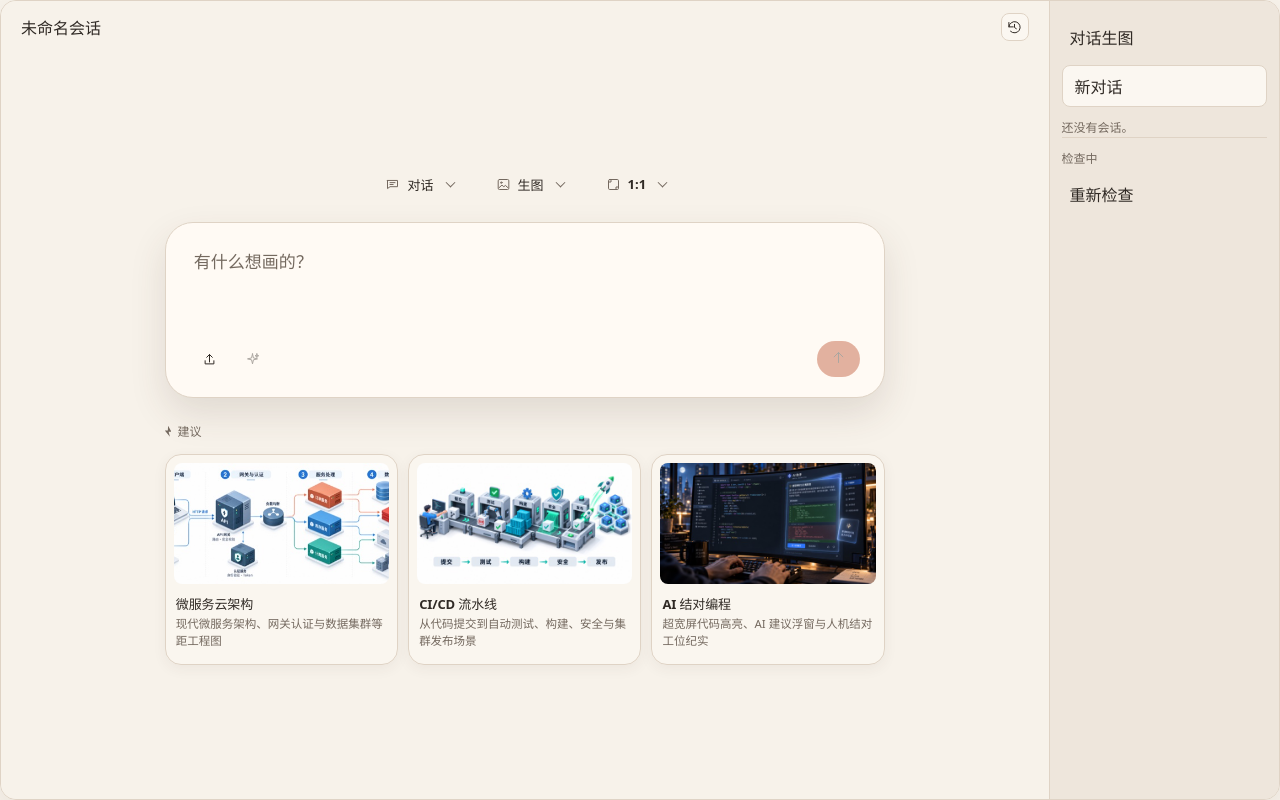
Test: ImagesPage › shows the user turn while send is still running
The width and height of the screenshot is (1280, 800).
Click the button with aria-label "新建会话" at (1164, 86), box top-left (1062, 65), bottom-right (1267, 107)
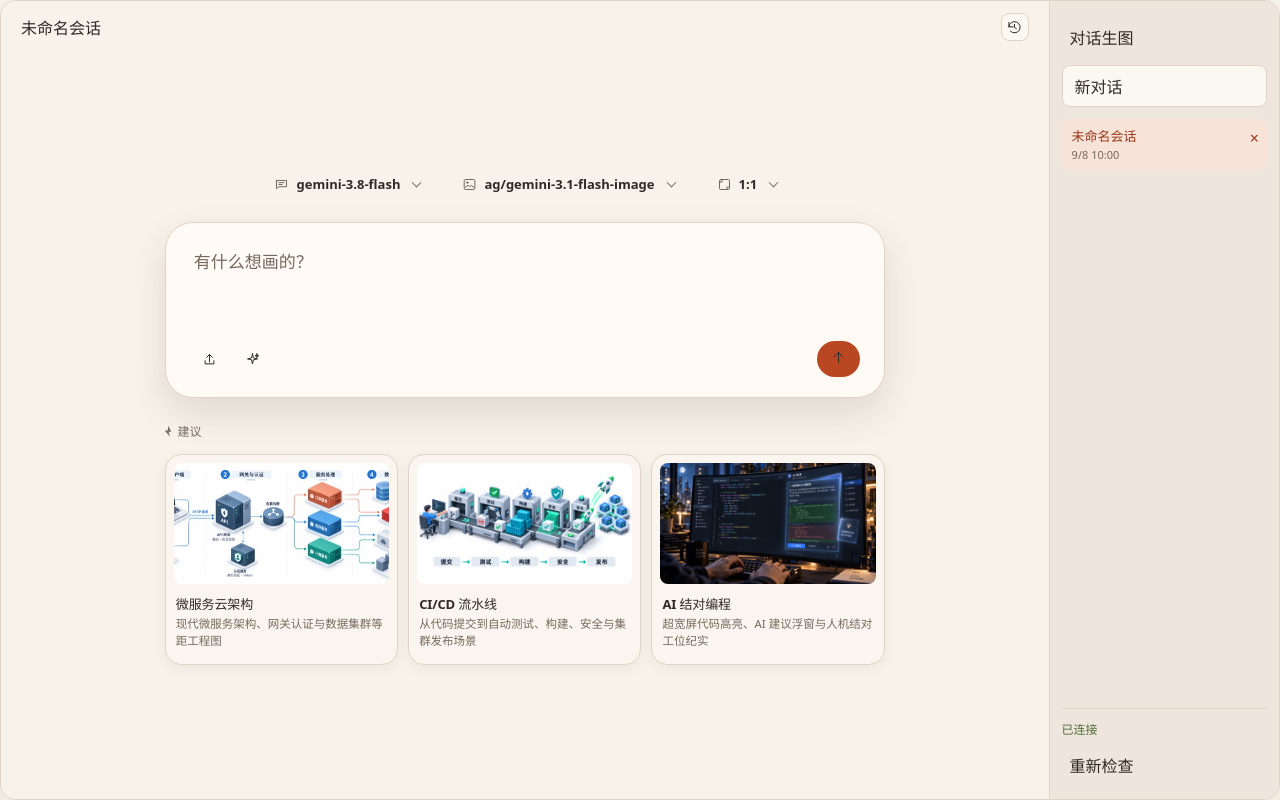
Expected: the label named "对话模型" is shown, top-left (274, 175), bottom-right (400, 193)
Type "画一只猫" into the text box named "描述你想聊或想画的画面" at (525, 288), box top-left (190, 247), bottom-right (860, 329)
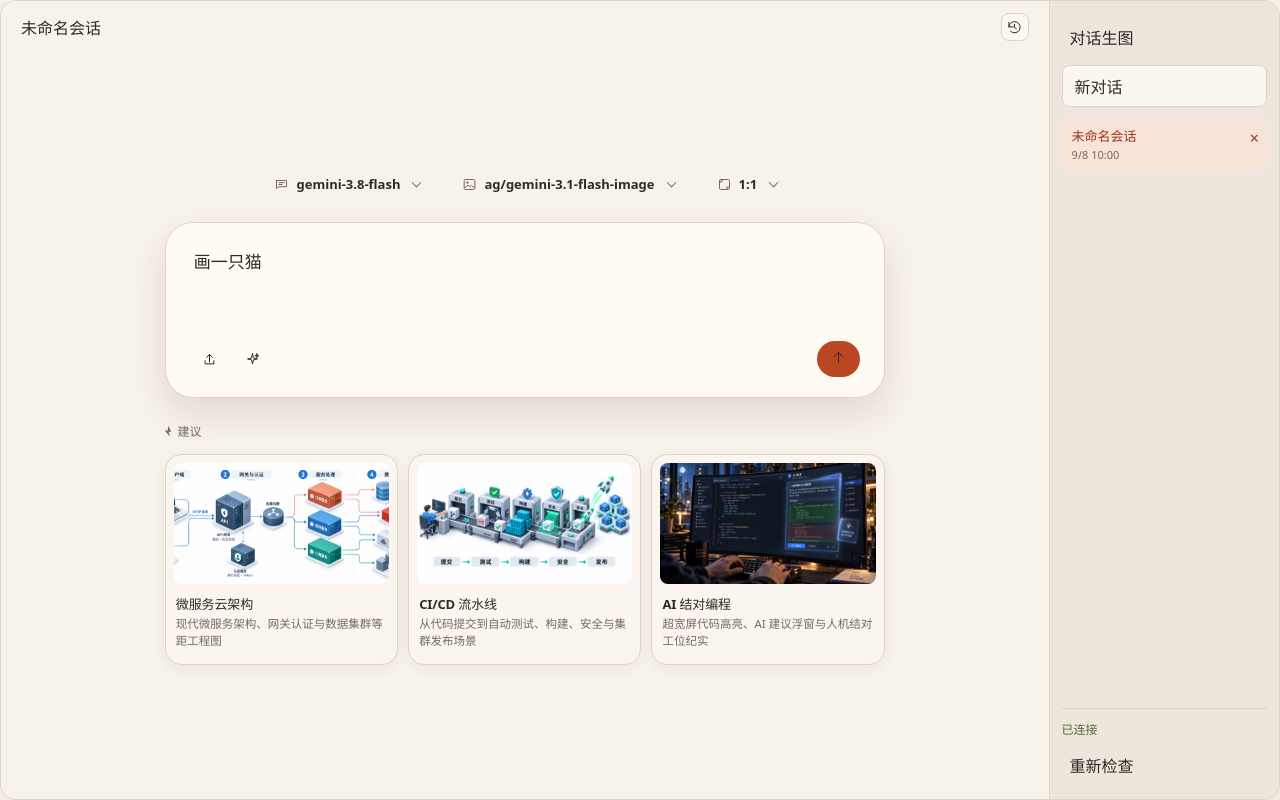
Click the button named "发送" at (838, 359), box top-left (817, 341), bottom-right (860, 377)
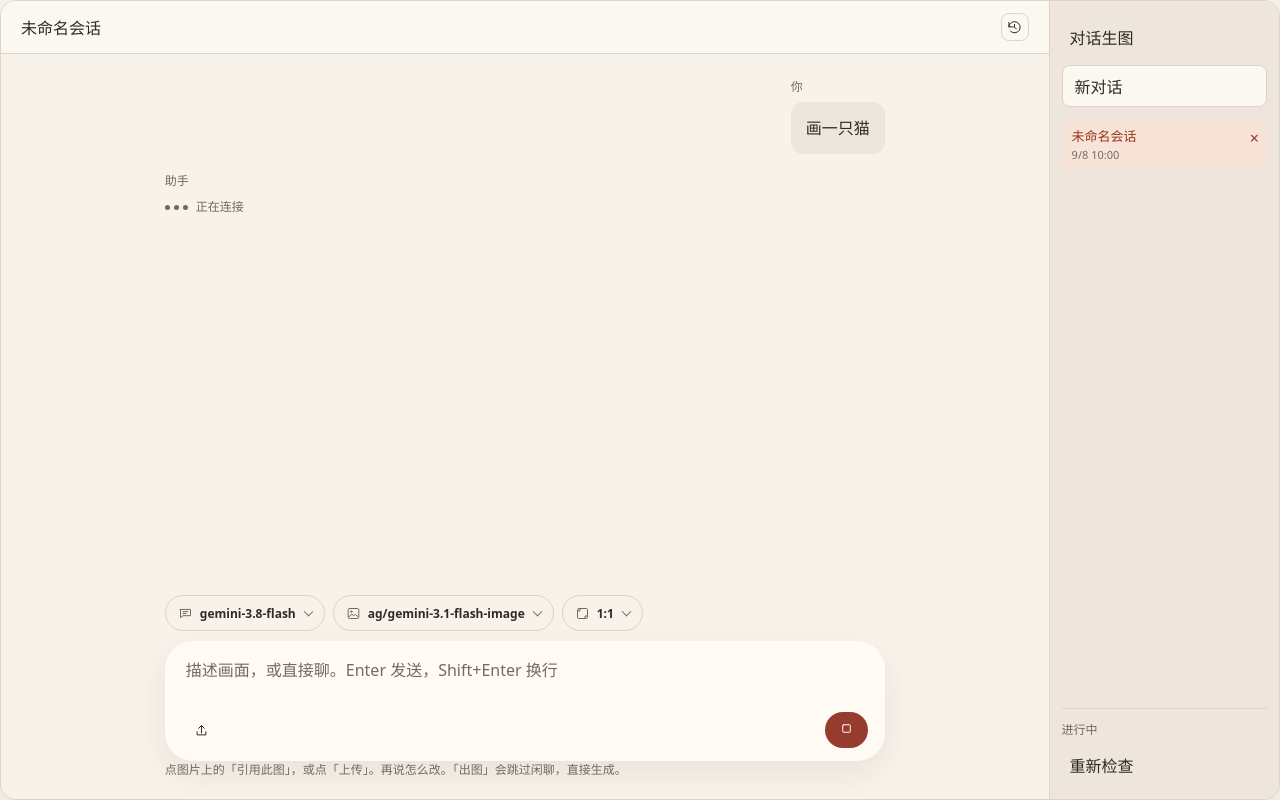
Expected: the text "有什么想画的？" is not shown
Result: the text "画一只猫" is shown at top-left (791, 102), bottom-right (885, 154)
Result: the text "正在连接" is shown at top-left (165, 198), bottom-right (244, 215)
